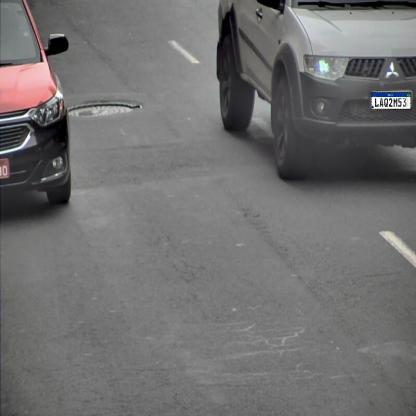PlacaM: (371, 92, 411, 110)
